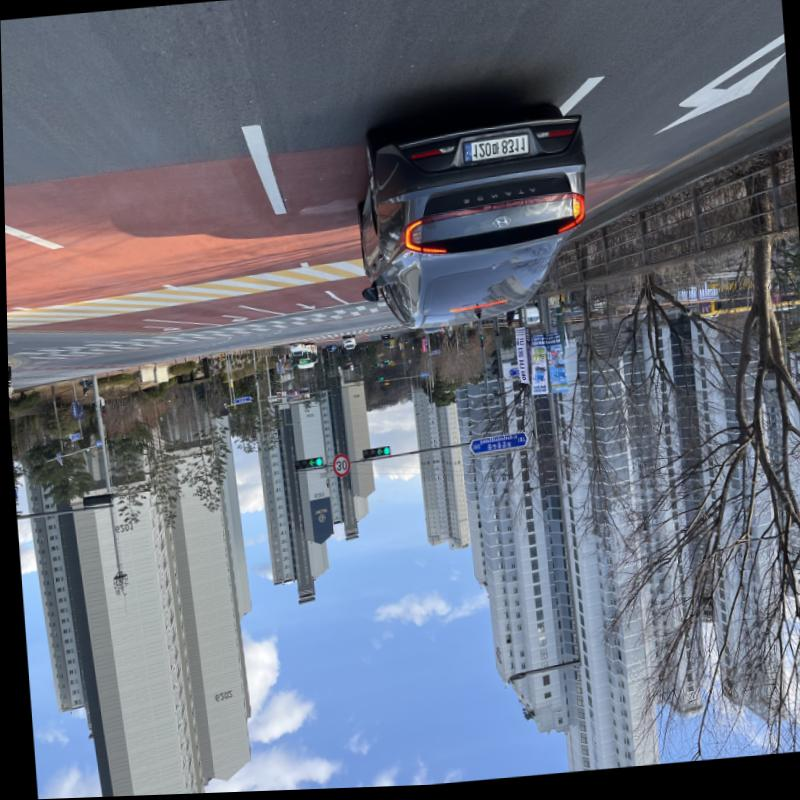green: (313, 460, 320, 469), (381, 450, 388, 458)
left: (307, 461, 314, 469), (374, 451, 381, 459)
